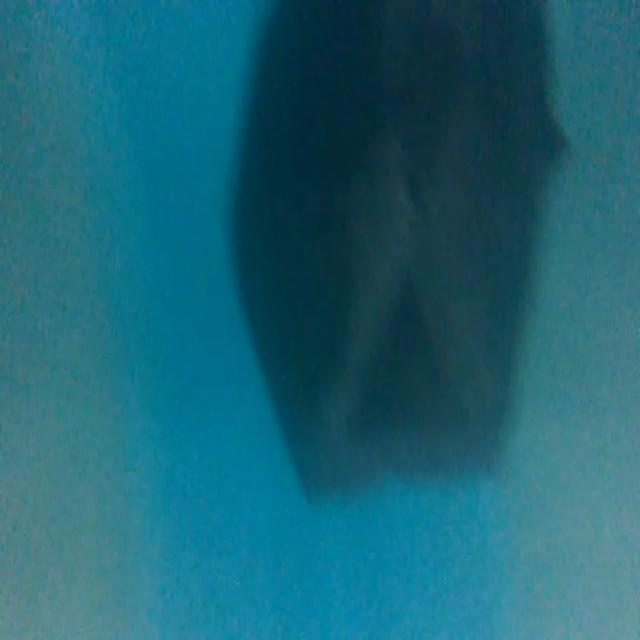plastic bags: (217, 3, 570, 518)
